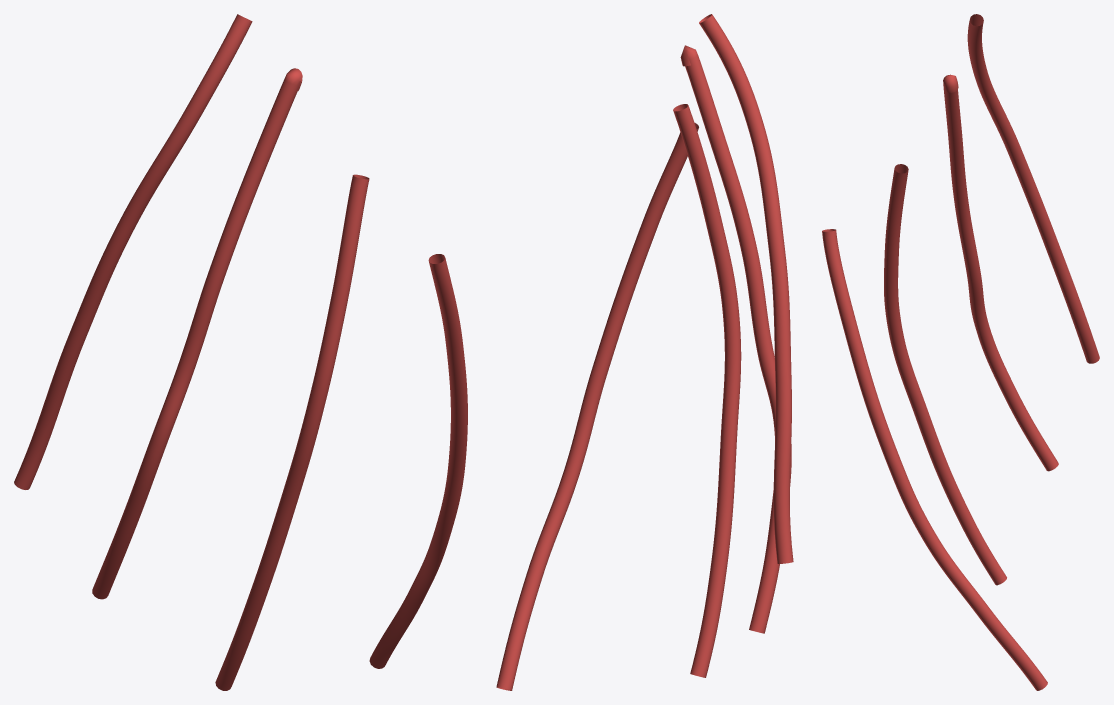
3 views of the same model, side by side, from view 1: azimuth 30°, elevation 25°; view 2: azimuth 150°, elevation 25°; view 3: azimuth 270°, elevation 25° (orthographic). The views are drawn at different scales.
Visible parts, largest first — view 1: 右侧跖足底动脉; view 2: 右侧跖足底动脉; view 3: 右侧跖足底动脉.
Part boxes in pixels (left/top/right/bottom): 右侧跖足底动脉: left=14, top=14, right=467, bottom=690; 右侧跖足底动脉: left=496, top=14, right=793, bottom=690; 右侧跖足底动脉: left=822, top=14, right=1099, bottom=690.
Bounding box in the file's own units: 0.0478 × 0.0963 × 0.0402.
